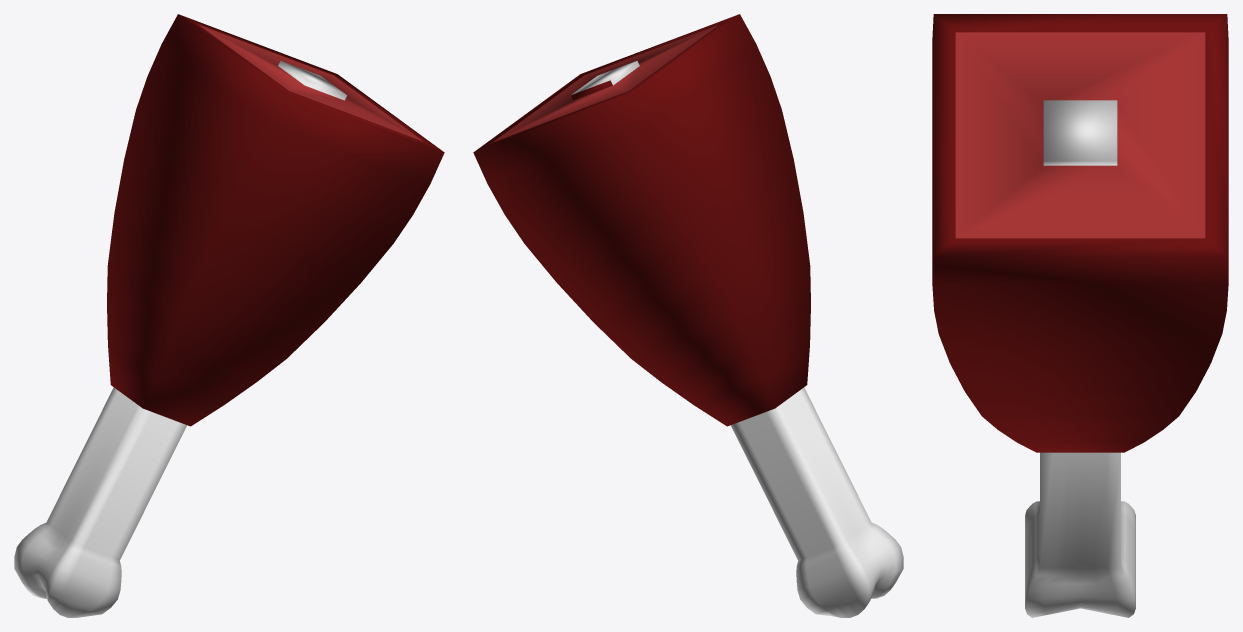
File: pork.fbx
3 views of the same model, side by side, from view 1: azimuth 30°, elevation 25°; view 2: azimuth 150°, elevation 25°; view 3: azimuth 270°, elevation 25° (orthographic). The views are drawn at different scales.
Parts seen in each view (by area): view 1: pork; view 2: pork; view 3: pork.
Part boxes in pixels (x1,y1,x2,y2): pork: (14,14,444,617); pork: (473,14,903,617); pork: (932,14,1228,617).
Bounding box in the file's own units: 72.47 × 99.26 × 37.75.
